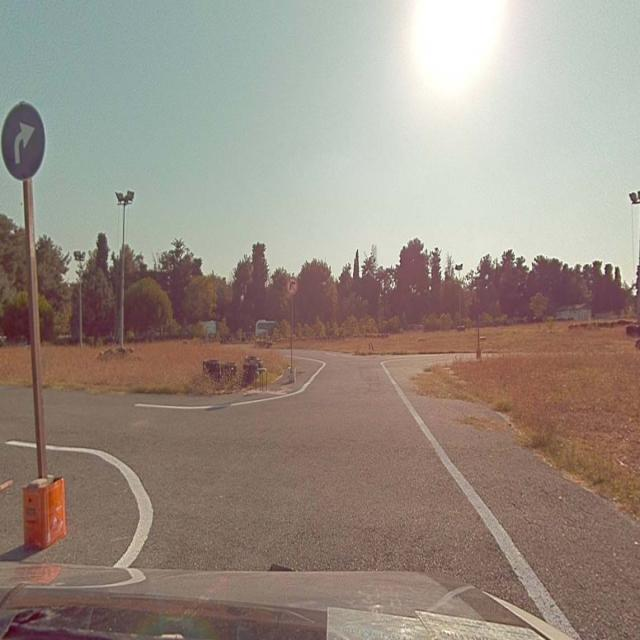sag: (1, 102, 44, 178)
sagadonulmez: (286, 277, 297, 295)
